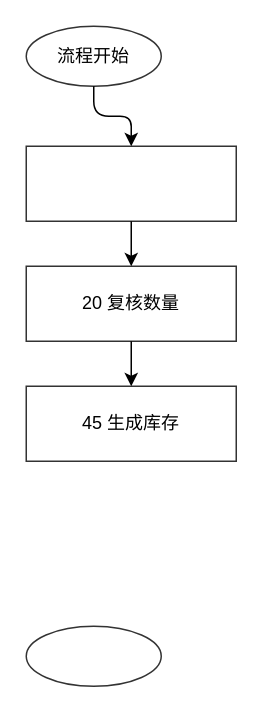
This 263x713 diagram has some shape labels left out. Each missing label, with the centre of its shape:
"10 扫码收货" belongs at pixel 130 183.
"170 流程结束" belongs at pixel 93 655.
